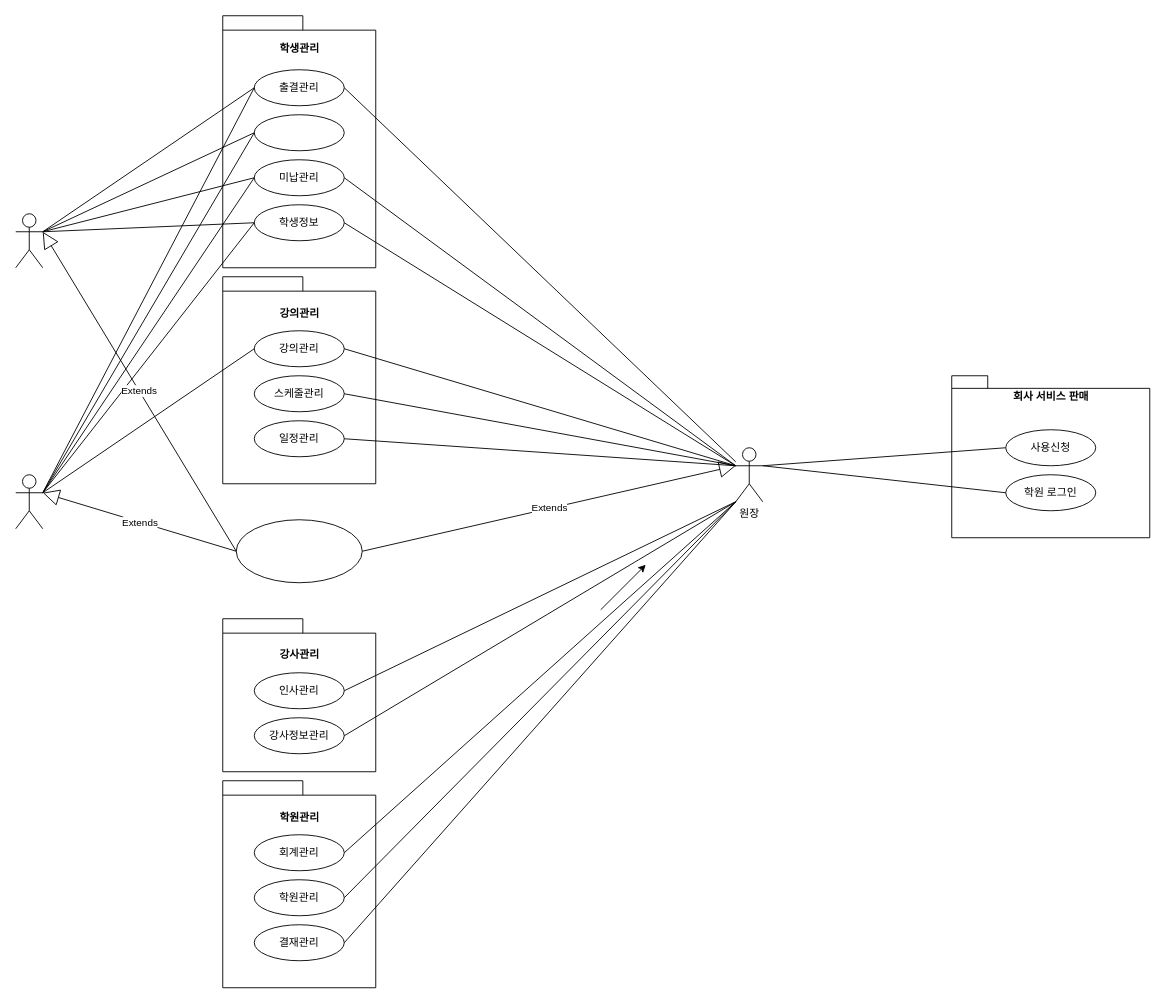
The diagram is 1166 pixels wide and 1004 high, and some of its shapes have lost their labels. Here are the shapes that lost their labels. From the top down, the centre of each, then its label:
(x=298, y=132): 성적관리
(x=29, y=240): 학생
(x=29, y=501): 강사
(x=298, y=551): 로그인
